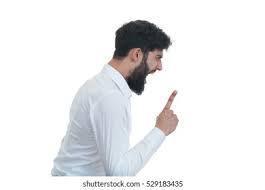Human: (49, 15, 192, 177)
